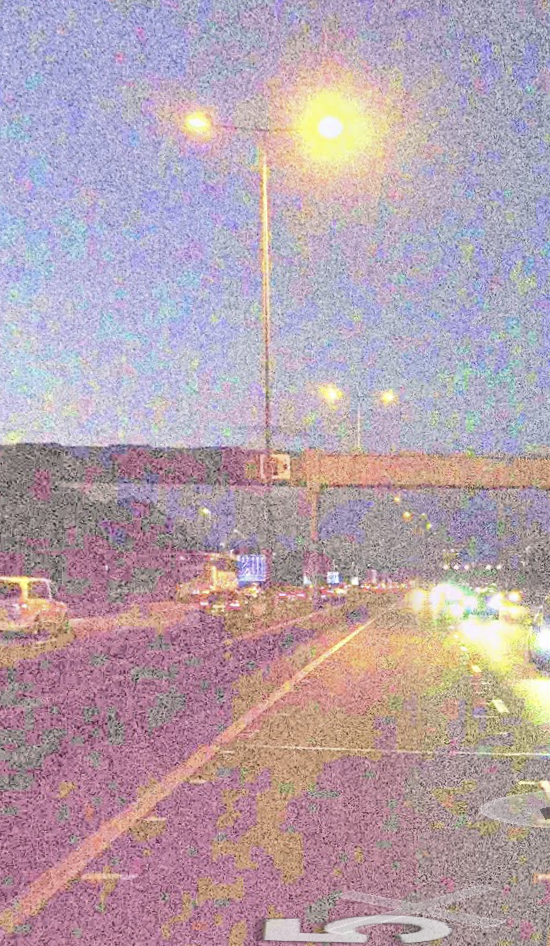HPS: (277, 94, 384, 163)
